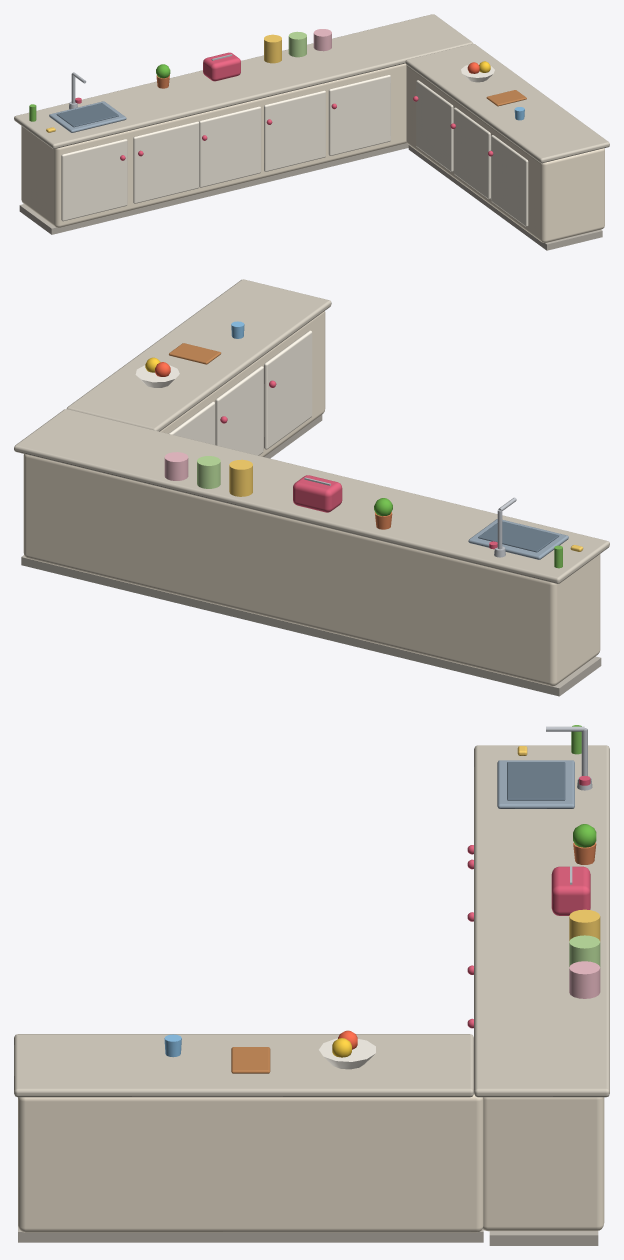
The model's file is sink.glb.
3 renders of one model, top to bottom at view 1: azimuth 30°, elevation 25°; view 2: azimuth 150°, elevation 25°; view 3: azimuth 270°, elevation 25°, orthographic. The views are drawn at different scales.
Bounding box in the file's own units: 4.22 × 1.24 × 3.07.
